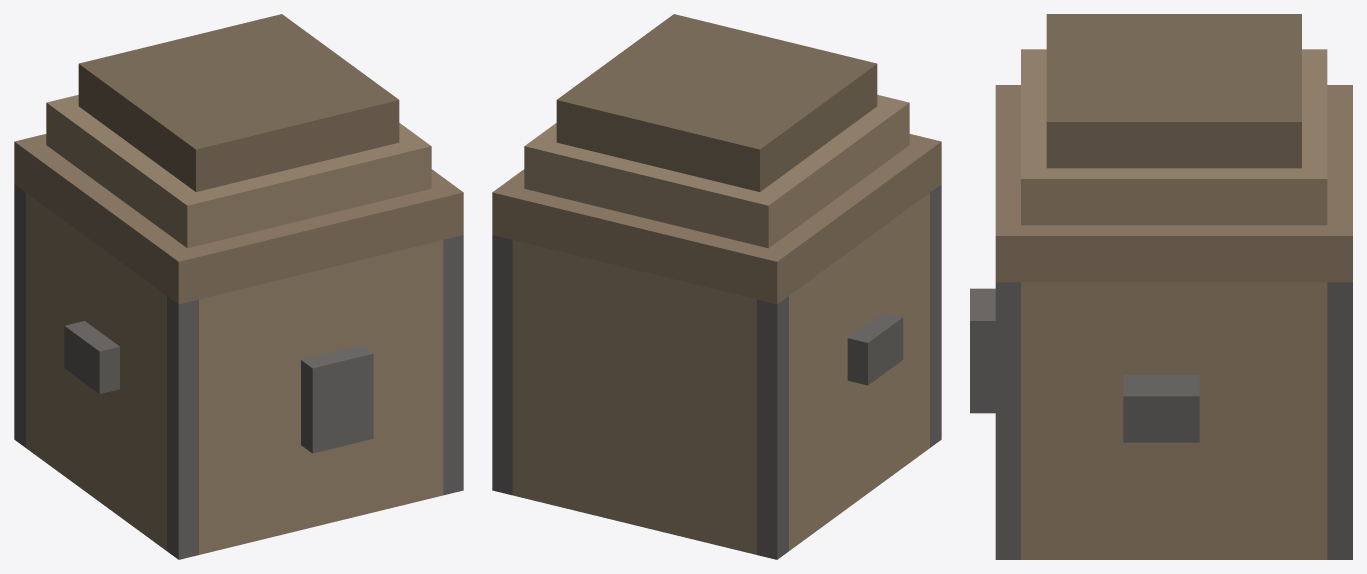
File: cofre_pequeno_desgastada_01.glb
The picture shows the model from 3 angles, left to right: view 1: azimuth 30°, elevation 25°; view 2: azimuth 150°, elevation 25°; view 3: azimuth 270°, elevation 25°; orthographic projection. The views are drawn at different scales.
Parts seen in each view (by area): view 1: cofre_pequeno_desgastada; view 2: cofre_pequeno_desgastada; view 3: cofre_pequeno_desgastada.
Boxes of the visible parts, <box> form: cofre_pequeno_desgastada: <box>14,14,463,559</box>; cofre_pequeno_desgastada: <box>492,14,941,559</box>; cofre_pequeno_desgastada: <box>970,14,1352,559</box>.
Bounding box in the file's own units: 1.21 × 1.29 × 1.07.
